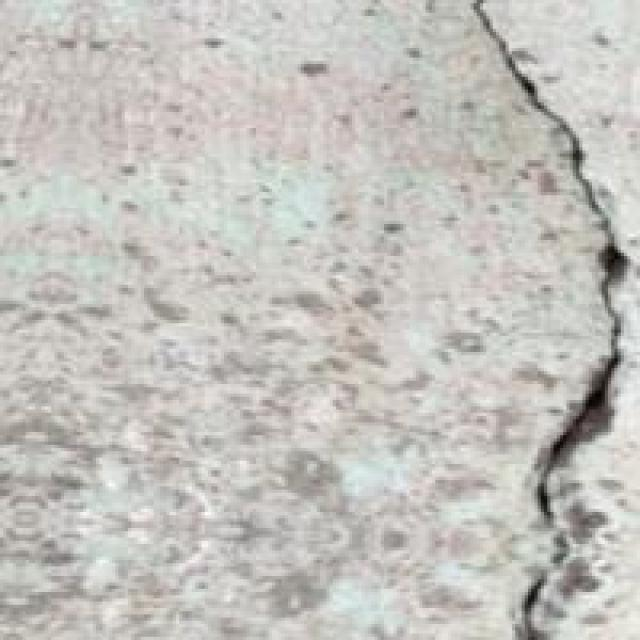Crack: (400, 0, 637, 634)
